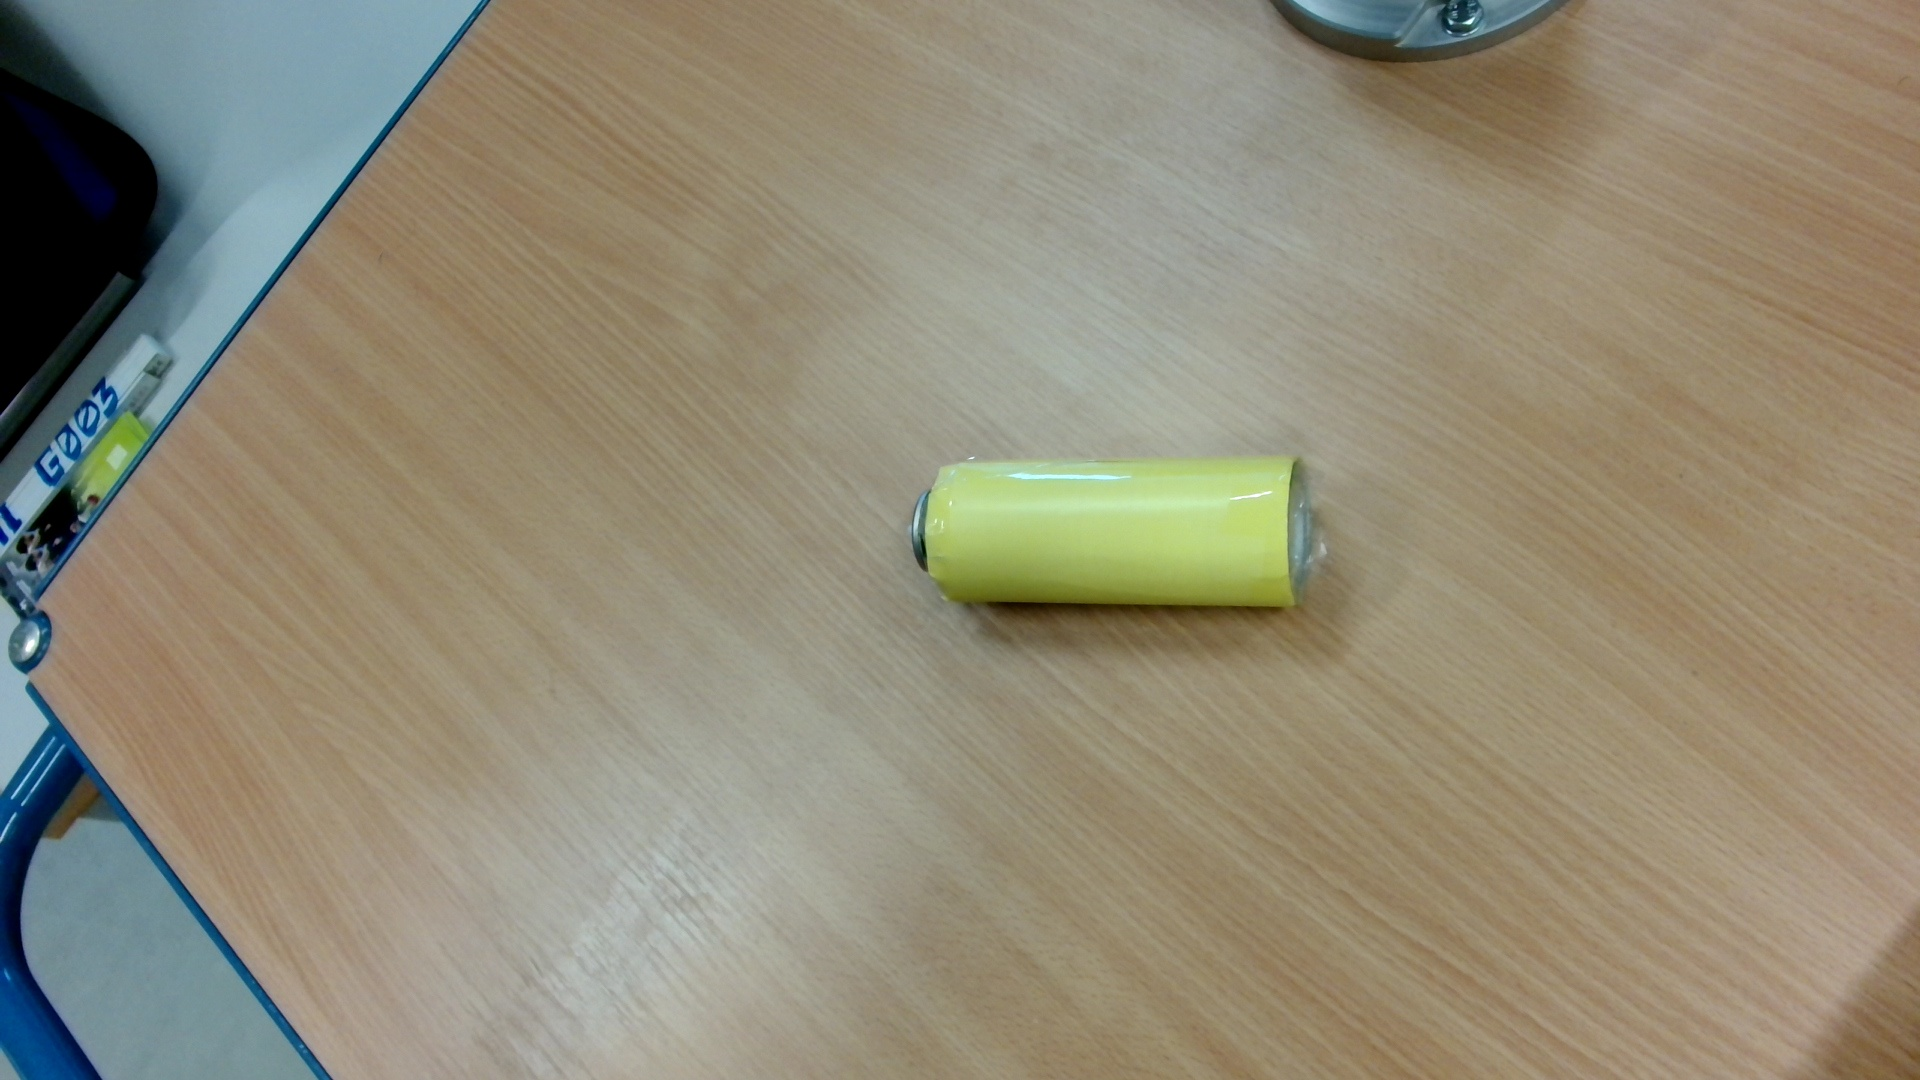Cylinder: (882, 450, 1341, 626)
